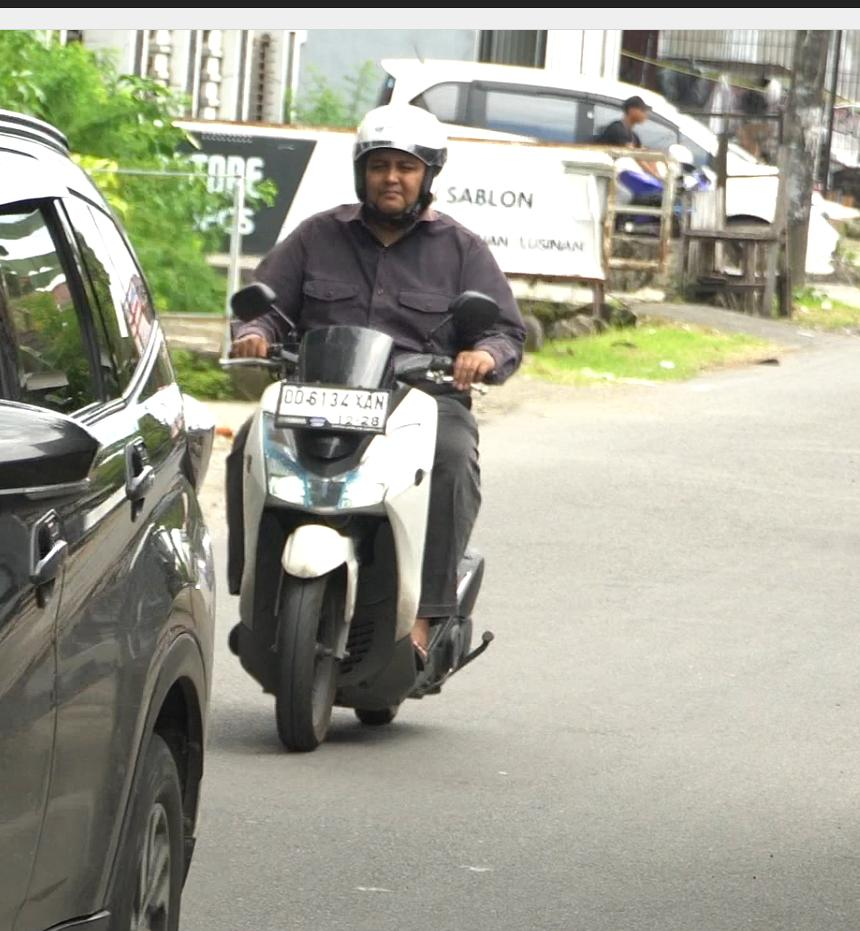number-plate: (274, 382, 391, 434)
